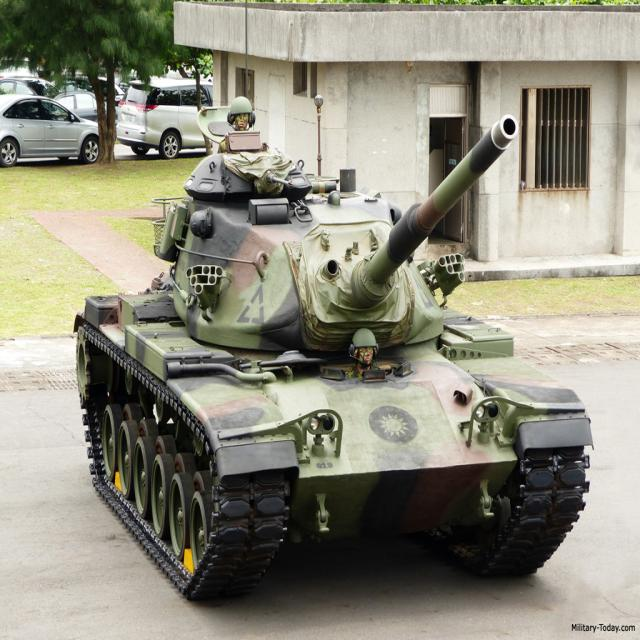Tank: (82, 94, 600, 572)
